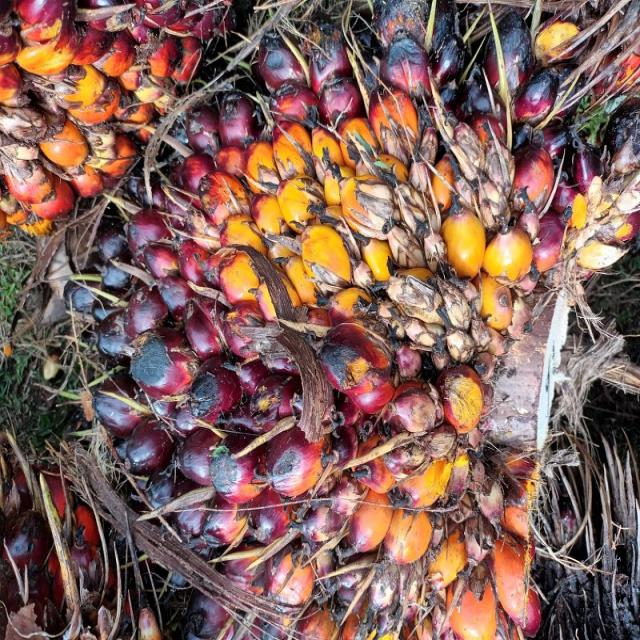fraksi 1: (82, 21, 560, 625)
